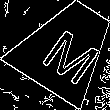M_NE: (32, 14, 102, 81)
